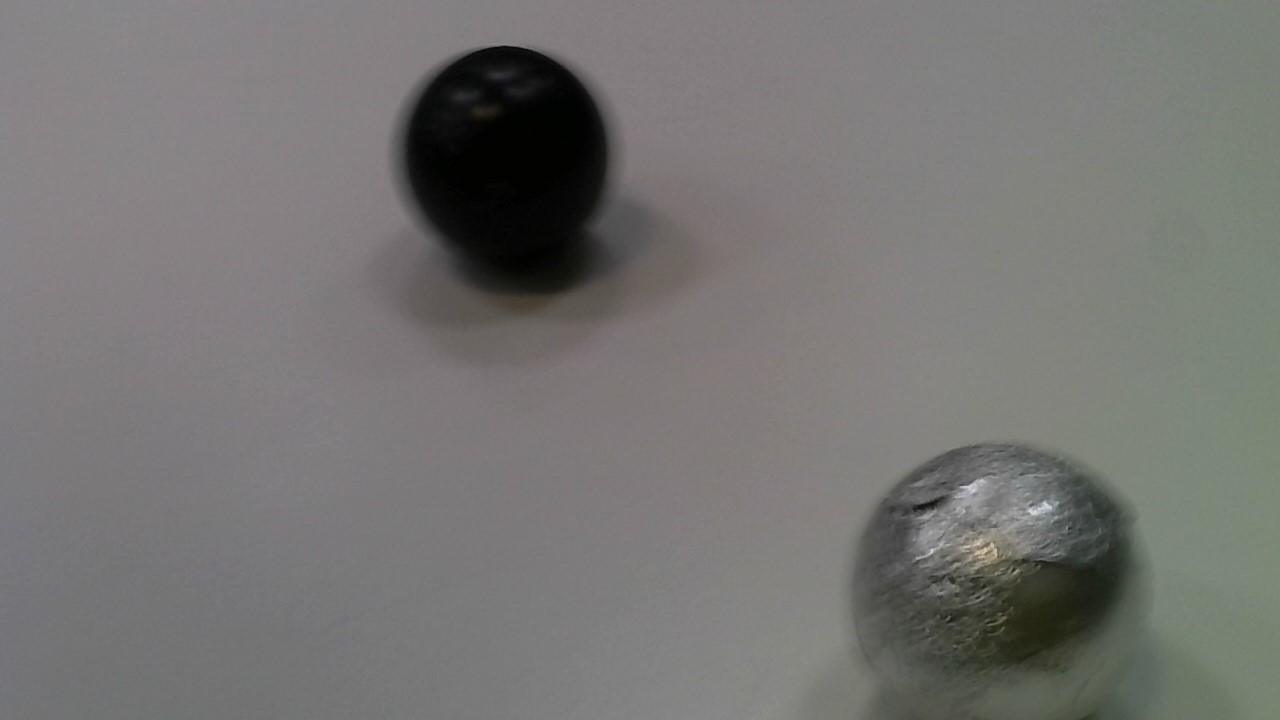black_ball: (392, 35, 620, 271)
silver_ball: (839, 430, 1158, 720)
